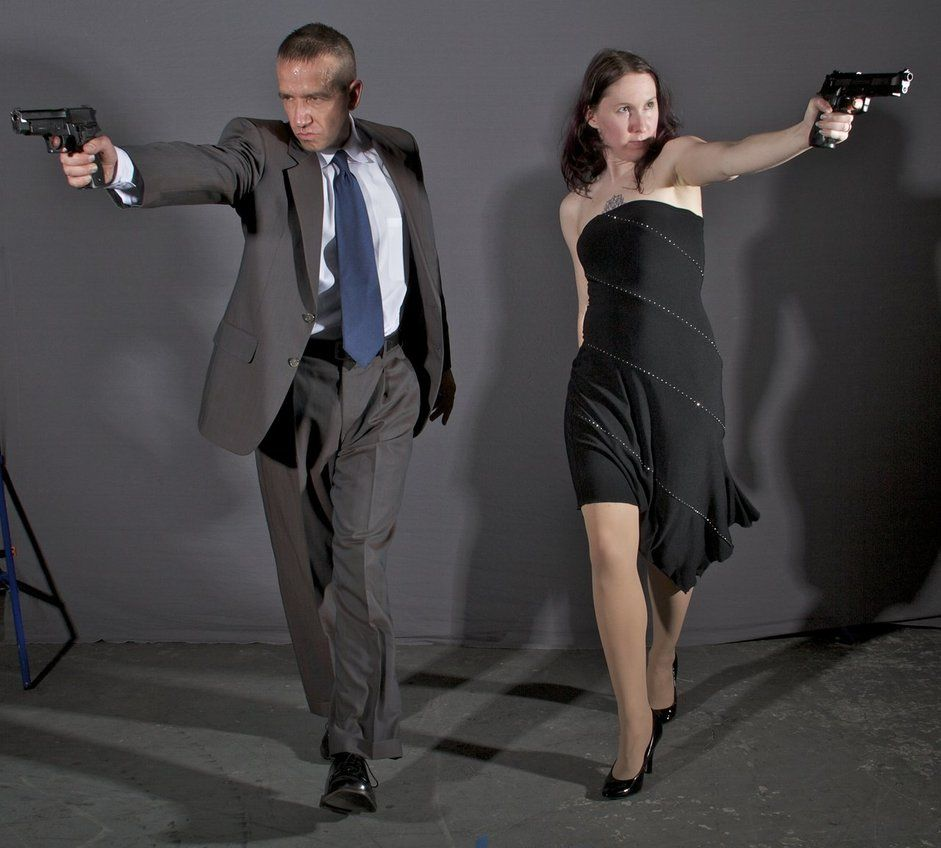gun: (3, 100, 116, 197), (805, 64, 919, 156)
person: (53, 20, 472, 824), (536, 26, 864, 811)
